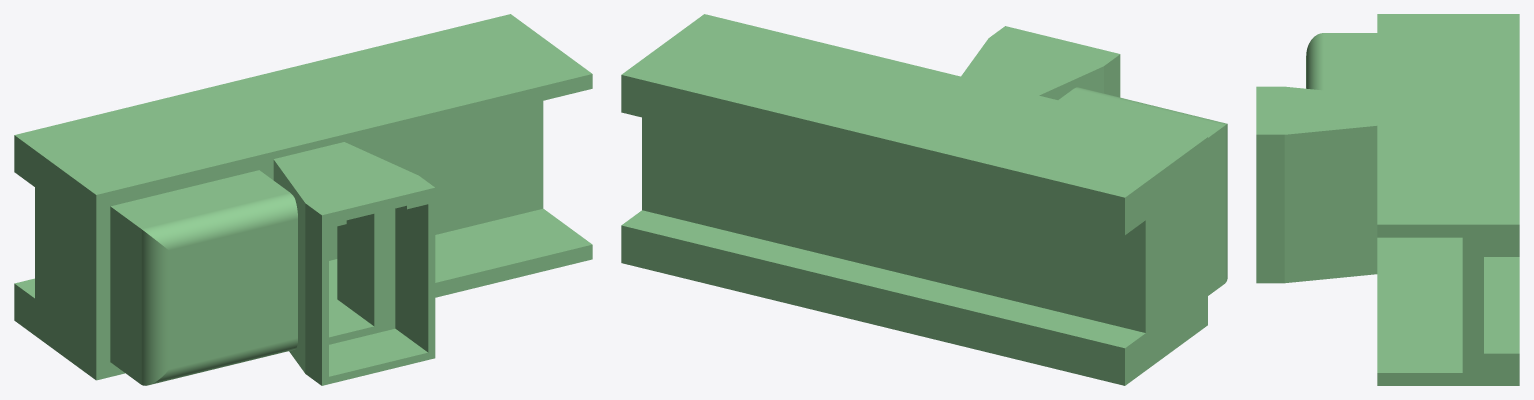
The model's file is tramoggia1.glb.
3 views of the same model, side by side, from view 1: azimuth 30°, elevation 25°; view 2: azimuth 150°, elevation 25°; view 3: azimuth 270°, elevation 25° (orthographic). The views are drawn at different scales.
Parts seen in each view (by area): view 1: Body1; view 2: Body1; view 3: Body1.
Part boxes in pixels (<box>): Body1: <box>14,14,592,385</box>; Body1: <box>621,14,1227,385</box>; Body1: <box>1256,14,1519,385</box>.
Bounding box in the file's own units: 0.07 × 0.025 × 0.037.
